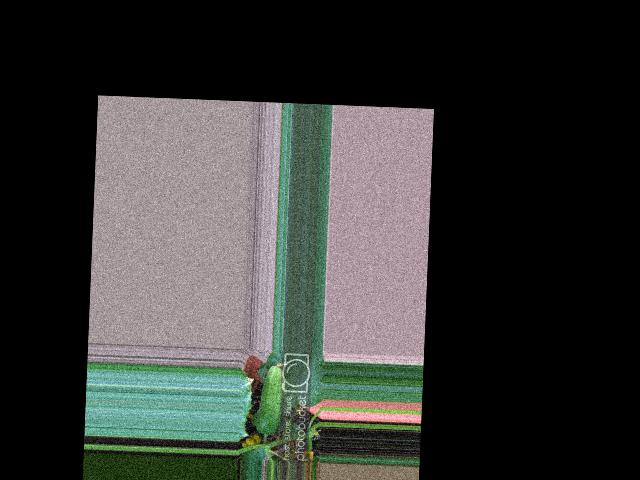cucumber: (255, 364, 286, 434)
